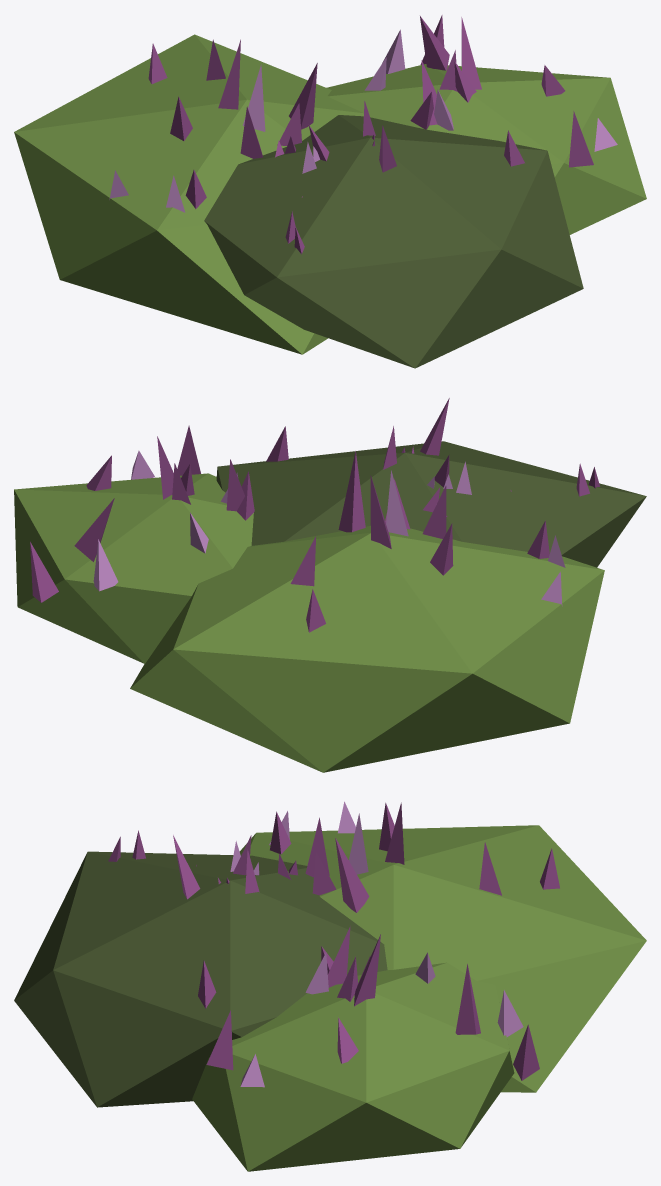
Rendered from ljung_1.glb.
3 renders of one model, top to bottom at view 1: azimuth 30°, elevation 25°; view 2: azimuth 150°, elevation 25°; view 3: azimuth 270°, elevation 25°, orthographic. The views are drawn at different scales.
Parts seen in each view (by area): view 1: ljung_1; view 2: ljung_1; view 3: ljung_1.
Part boxes in pixels (x1,y1,x2,y2): ljung_1: (14,15,646,368); ljung_1: (14,398,646,772); ljung_1: (14,801,646,1171).
Size of the model in its own units: 0.9891 by 0.4339 by 0.9545.
